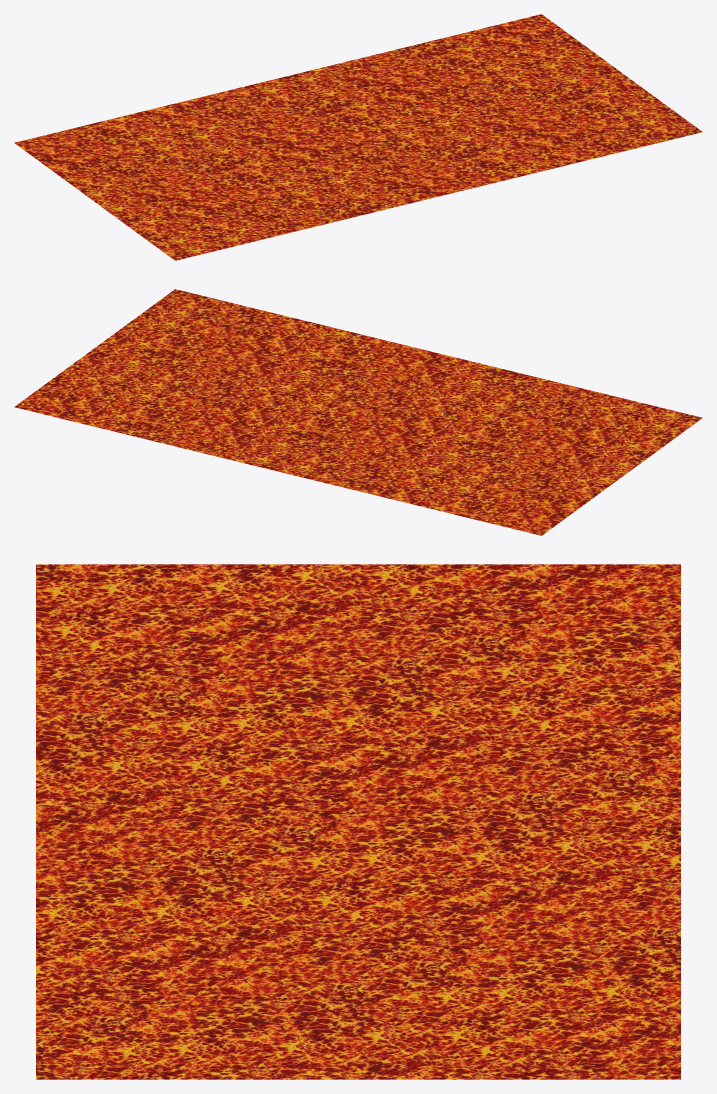
File: catle_lava.glb
3 views of the same model, one above another, from view 1: azimuth 30°, elevation 25°; view 2: azimuth 150°, elevation 25°; view 3: azimuth 270°, elevation 25° (orthographic). The views are drawn at different scales.
Parts seen in each view (by area): view 1: lava_2k_diffuse.jpg__; view 2: lava_2k_diffuse.jpg__; view 3: lava_2k_diffuse.jpg__.
Boxes of the visible parts, x1,y1,x2,y2 form: lava_2k_diffuse.jpg__: (14, 14, 702, 260); lava_2k_diffuse.jpg__: (14, 289, 702, 535); lava_2k_diffuse.jpg__: (36, 564, 680, 1079).
Size of the model in its own units: 336 by 0 by 178.
Materials: 1 (1 with a texture image).
